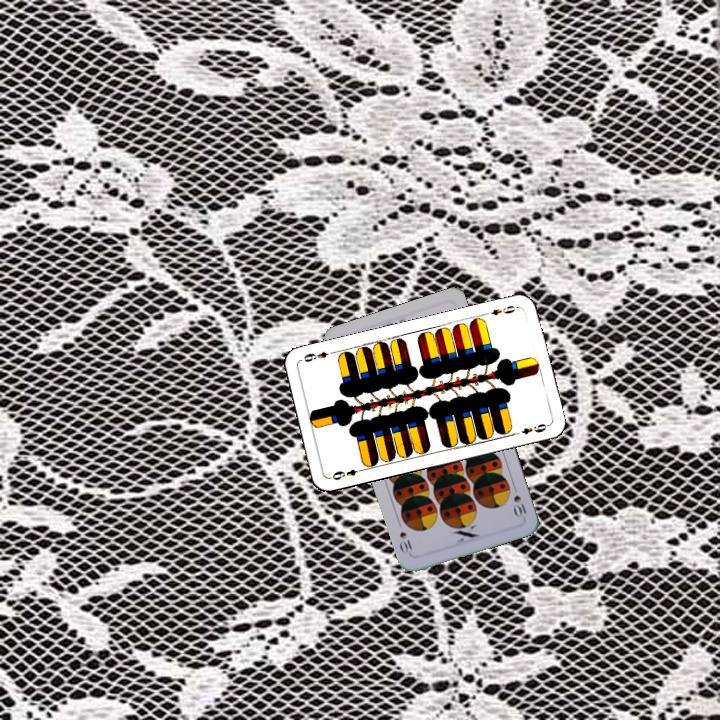E9: (327, 465, 367, 483), (481, 301, 521, 318)
S10: (509, 491, 529, 521)
